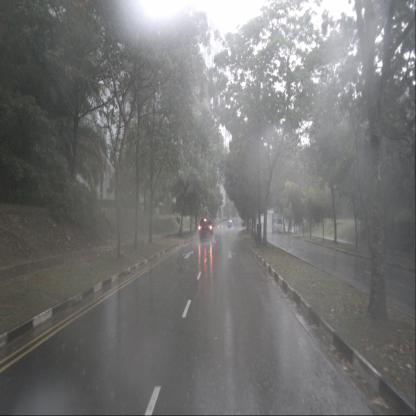vehicle-car: (199, 217, 214, 237), (227, 219, 233, 228)
vehicle-truck: (272, 212, 282, 235)
